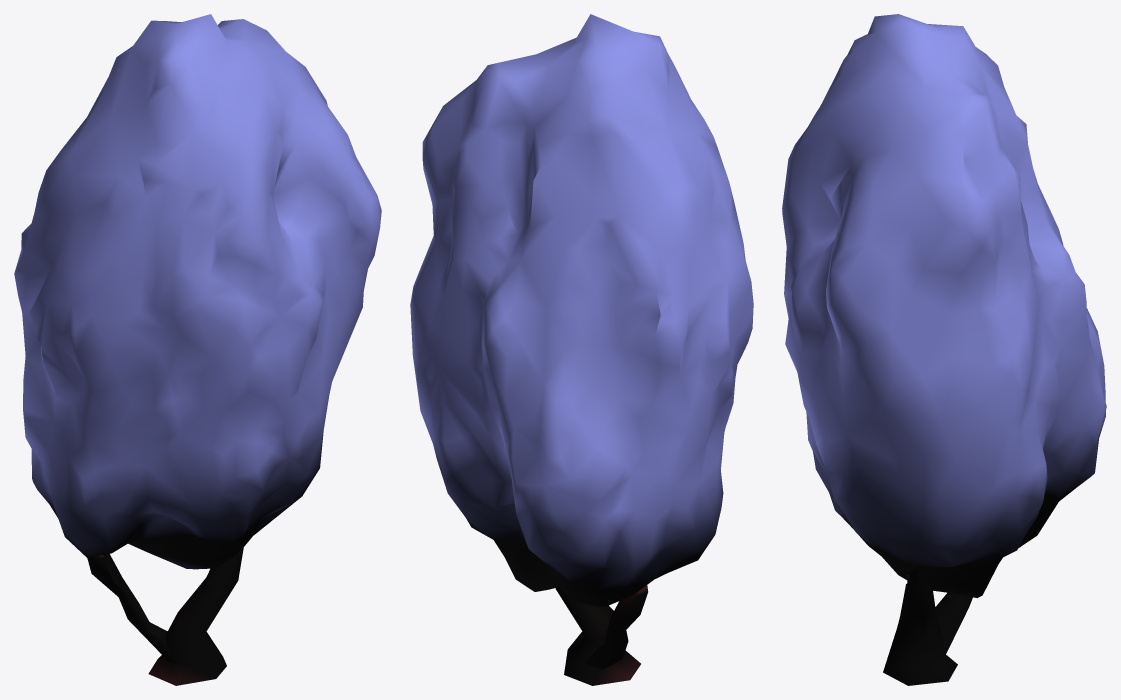
File: GeoBush01.fbx
3 views of the same model, side by side, from view 1: azimuth 30°, elevation 25°; view 2: azimuth 150°, elevation 25°; view 3: azimuth 270°, elevation 25° (orthographic).
Parts seen in each view (by area): view 1: GeoBush01_LOD0; view 2: GeoBush01_LOD0; view 3: GeoBush01_LOD0.
Part boxes in pixels (x1,y1,x2,y2): GeoBush01_LOD0: (14,14,381,685); GeoBush01_LOD0: (410,14,753,685); GeoBush01_LOD0: (782,14,1106,685).
Size of what is drawn, in the model's own units: 47.94 by 97.84 by 43.85.
